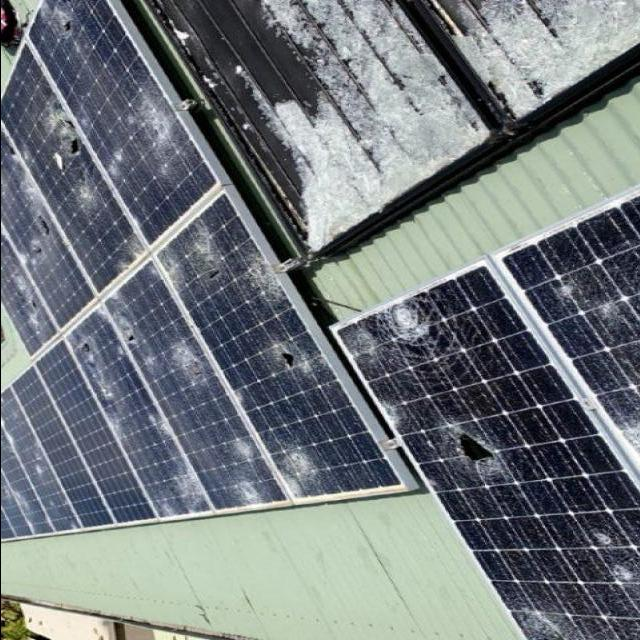cracked: (334, 194, 640, 634), (161, 202, 363, 496), (35, 7, 226, 241), (100, 278, 262, 510), (1, 51, 144, 287), (68, 309, 195, 527), (1, 156, 83, 354), (1, 382, 63, 536)
